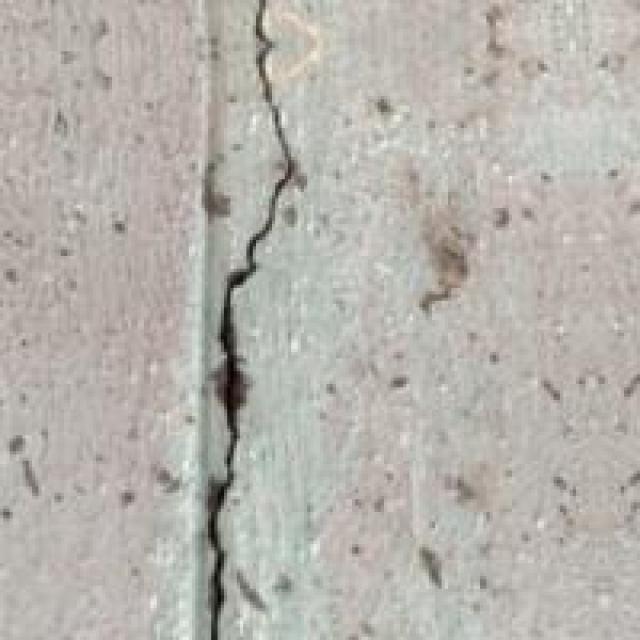Crack: (141, 0, 365, 637)
